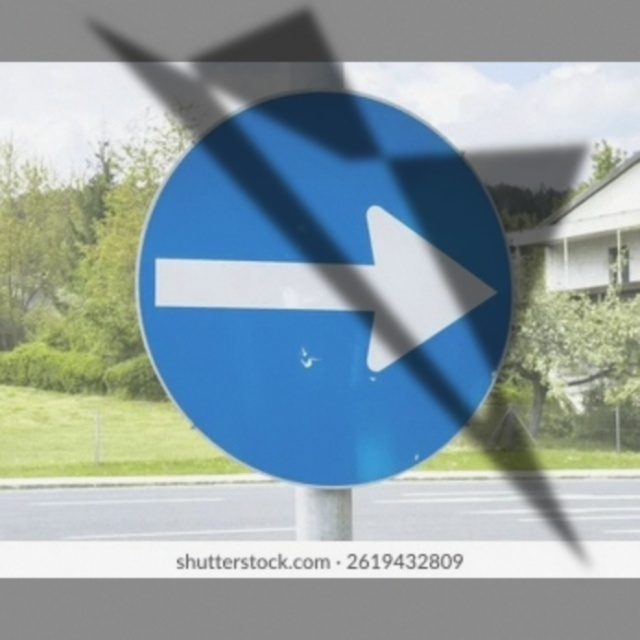Compulsory_Turn_Right: (145, 87, 516, 484)
